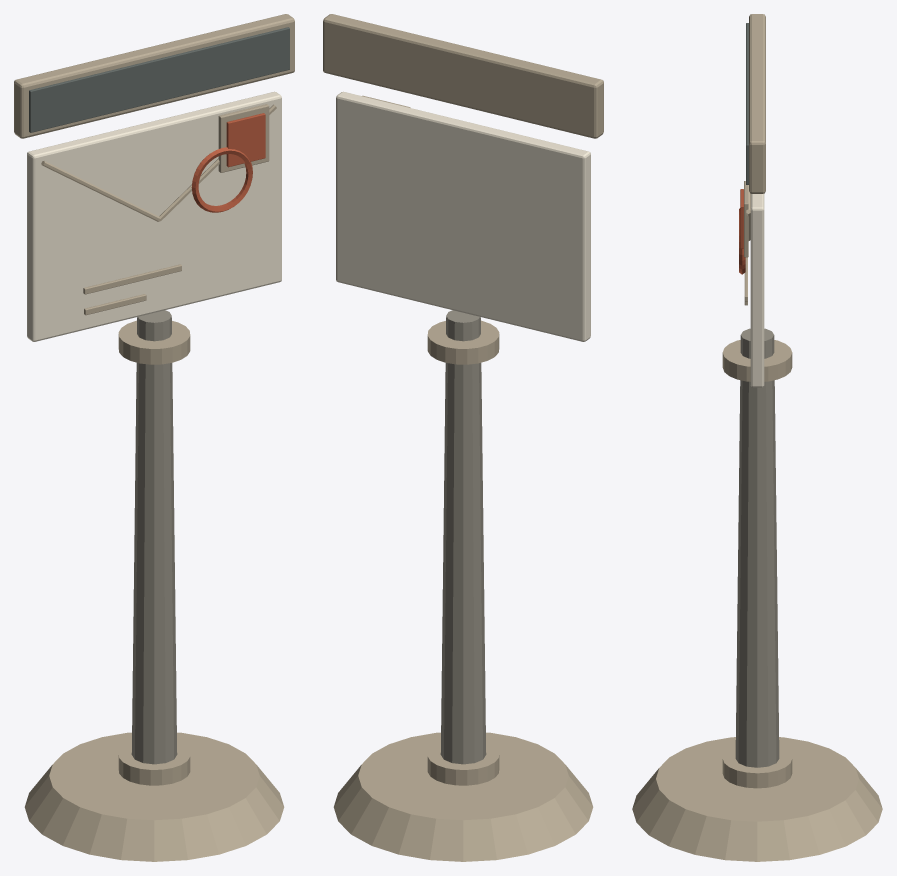
File: common_ban_letter.glb
The picture shows the model from 3 angles, left to right: view 1: azimuth 30°, elevation 25°; view 2: azimuth 150°, elevation 25°; view 3: azimuth 270°, elevation 25°; orthographic projection. The views are drawn at different scales.
Visible parts, largest first — view 1: common_ban_letter__common-ivory, common_ban_letter__common-brushed-brass, common_ban_letter__common-sage, common_ban_letter__common-dark-timber, common_ban_letter__common-terracotta; view 2: common_ban_letter__common-ivory, common_ban_letter__common-brushed-brass, common_ban_letter__common-sage; view 3: common_ban_letter__common-brushed-brass, common_ban_letter__common-sage, common_ban_letter__common-ivory.
Part boxes in pixels (box(x1,y1,x2,y2)): common_ban_letter__common-ivory: box(27, 91, 281, 341); common_ban_letter__common-brushed-brass: box(14, 14, 294, 861); common_ban_letter__common-sage: box(131, 310, 177, 764); common_ban_letter__common-dark-timber: box(29, 27, 289, 132); common_ban_letter__common-terracotta: box(191, 113, 265, 212); common_ban_letter__common-ivory: box(336, 91, 590, 341); common_ban_letter__common-brushed-brass: box(323, 14, 603, 861); common_ban_letter__common-sage: box(440, 310, 486, 764); common_ban_letter__common-brushed-brass: box(632, 14, 882, 861); common_ban_letter__common-sage: box(735, 328, 779, 767); common_ban_letter__common-ivory: box(750, 193, 764, 387).
Size of the model in its own units: 2.2 by 5.8 by 1.8.
